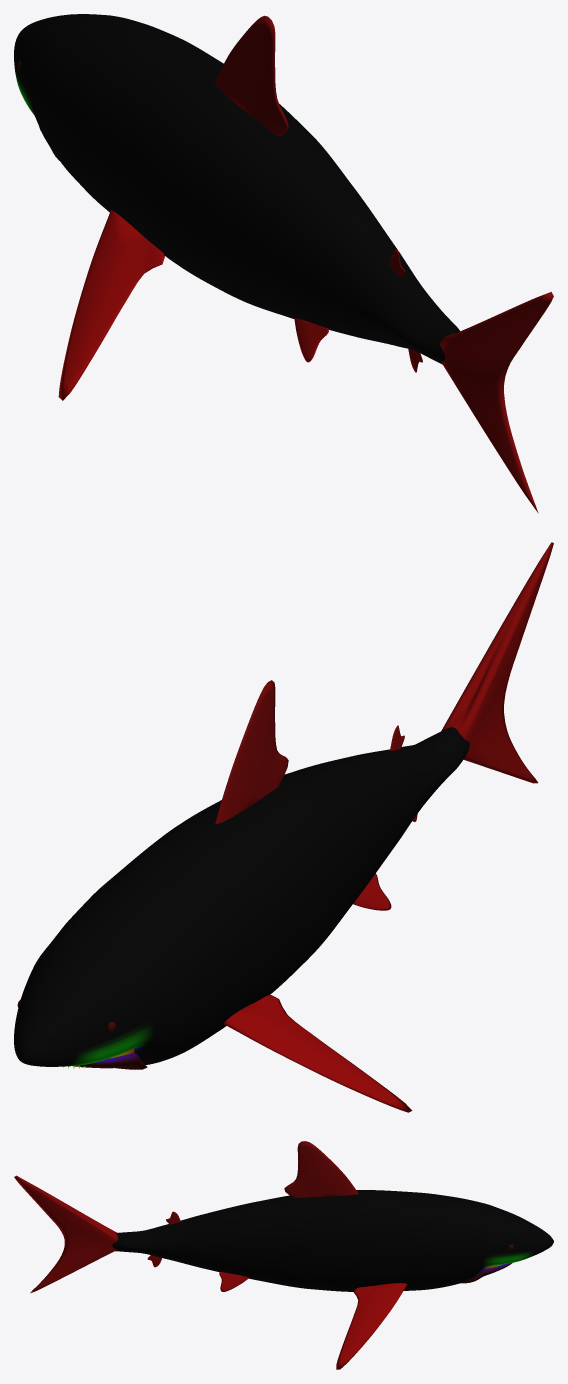
The model's file is white_shark.glb.
The picture shows the model from 3 angles, top to bottom: view 1: azimuth 30°, elevation 25°; view 2: azimuth 150°, elevation 25°; view 3: azimuth 270°, elevation 25°; orthographic projection. The views are drawn at different scales.
Visible parts, largest first — view 1: white_shark; view 2: white_shark; view 3: white_shark.
Boxes of the visible parts, <box> form: white_shark: <box>14,14,553,513</box>; white_shark: <box>14,542,553,1112</box>; white_shark: <box>14,1141,553,1369</box>.
Bounding box in the file's own units: 1.83 × 1.82 × 4.8.
